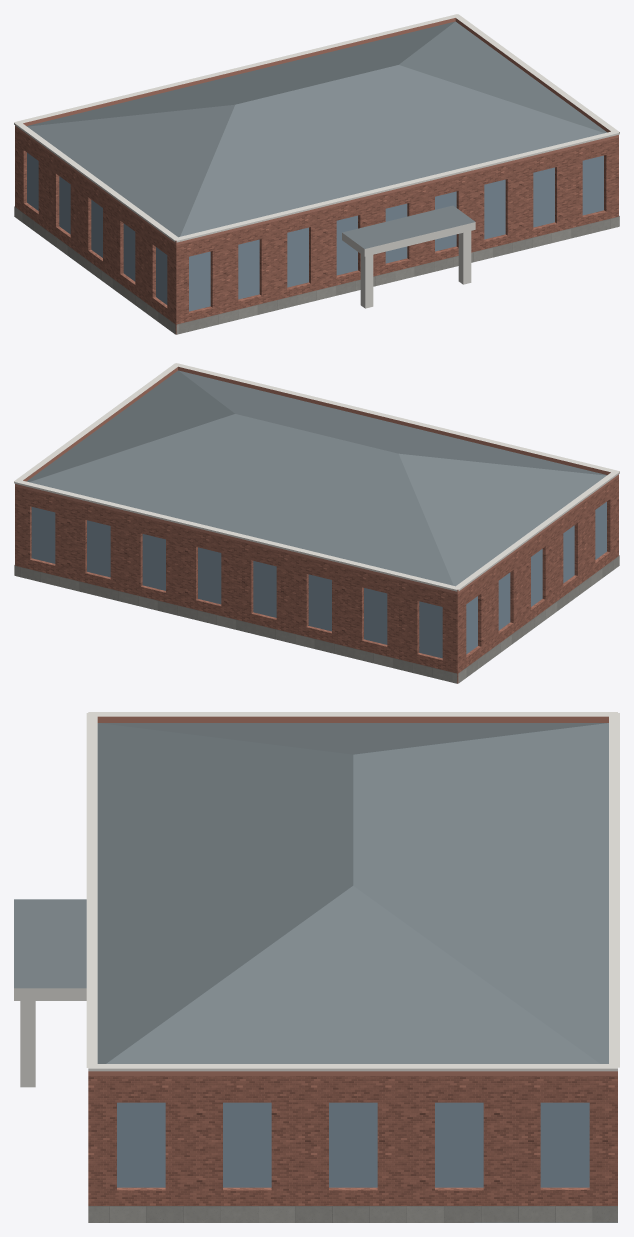
The picture shows the model from 3 angles, top to bottom: view 1: azimuth 30°, elevation 25°; view 2: azimuth 150°, elevation 25°; view 3: azimuth 270°, elevation 25°; orthographic projection. The views are drawn at different scales.
Visible parts, largest first — view 1: jajakmaru__roof, jajakmaru__wall, jajakmaru__glass, jajakmaru__trim, jajakmaru__base, jajakmaru__parapet, jajakmaru__column; view 2: jajakmaru__roof, jajakmaru__wall, jajakmaru__glass, jajakmaru__base, jajakmaru__trim, jajakmaru__parapet; view 3: jajakmaru__roof, jajakmaru__wall, jajakmaru__glass, jajakmaru__trim, jajakmaru__base, jajakmaru__parapet, jajakmaru__column.
Part boxes in pixels (x1,y1,x2,y2): jajakmaru__roof: [27, 21, 606, 334]; jajakmaru__wall: [15, 128, 618, 334]; jajakmaru__glass: [27, 152, 603, 311]; jajakmaru__trim: [14, 14, 619, 256]; jajakmaru__base: [14, 206, 619, 334]; jajakmaru__parapet: [15, 18, 618, 245]; jajakmaru__column: [360, 231, 471, 308]; jajakmaru__roof: [27, 370, 606, 683]; jajakmaru__wall: [15, 477, 618, 683]; jajakmaru__glass: [31, 502, 606, 658]; jajakmaru__base: [14, 555, 619, 683]; jajakmaru__trim: [14, 363, 619, 591]; jajakmaru__parapet: [15, 366, 618, 594]; jajakmaru__roof: [14, 723, 617, 1222]; jajakmaru__wall: [88, 1076, 617, 1205]; jajakmaru__glass: [117, 1102, 589, 1187]; jajakmaru__trim: [14, 712, 619, 1071]; jajakmaru__base: [88, 1206, 617, 1222]; jajakmaru__parapet: [88, 716, 617, 1076]; jajakmaru__column: [20, 1001, 35, 1087].
Size of the model in its own units: 27.23 by 8.02 by 19.55.
8 materials, 2 textured.
